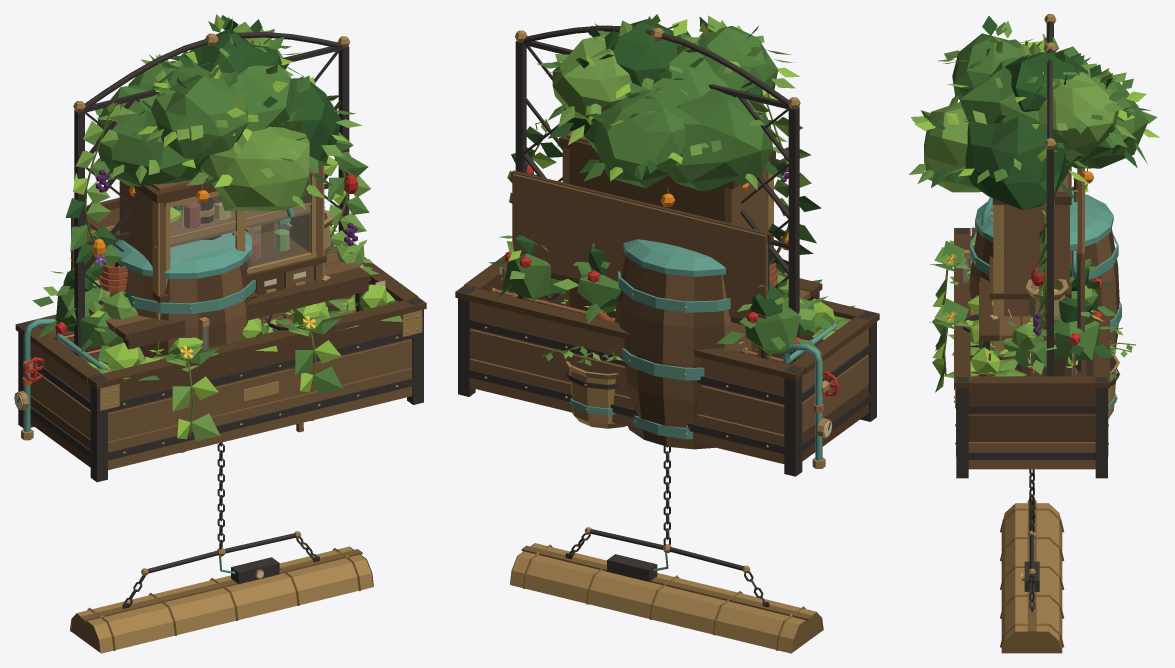
The model's file is greenhouse.glb.
3 renders of one model, left to right at view 1: azimuth 30°, elevation 25°; view 2: azimuth 150°, elevation 25°; view 3: azimuth 270°, elevation 25°, orthographic. The views are drawn at different scales.
Parts seen in each view (by area): view 1: planter_empty, tree_pot, grow_lamp, seed_cabinet, vine_trellis, planter_grown, cistern, potting_bench; view 2: planter_empty, tree_pot, cistern, potting_bench, grow_lamp, vine_trellis, planter_grown, seed_cabinet, pot_cluster; view 3: tree_pot, planter_empty, grow_lamp, planter_grown, seed_cabinet, cistern, potting_bench, vine_trellis, planter_sprouts, pot_cluster.
Boxes of the visible parts, x1,y1,x2,y2 form: planter_empty: (14,246,426,482); tree_pot: (88,14,362,331); grow_lamp: (70,442,373,653); seed_cabinet: (119,157,326,355); vine_trellis: (65,32,370,354); planter_grown: (32,202,402,441); cistern: (110,197,313,432); potting_bench: (71,197,370,349); planter_empty: (455,255,879,476); tree_pot: (537,14,800,321); cistern: (615,239,757,449); potting_bench: (511,170,822,358); grow_lamp: (510,446,823,653); vine_trellis: (507,25,821,361); planter_grown: (489,233,854,364); seed_cabinet: (559,130,775,317); pot_cluster: (542,346,625,428); tree_pot: (909,16,1159,315); planter_empty: (954,227,1109,478); grow_lamp: (1000,469,1064,653); planter_grown: (929,183,1118,392); seed_cabinet: (989,167,1071,358); cistern: (962,190,1121,353); potting_bench: (979,168,1084,371); vine_trellis: (1031,14,1056,376); planter_sprouts: (982,341,1093,384); pot_cluster: (1108,327,1135,418).
Bounding box in the file's own units: 2.55 × 4.02 × 1.66.
